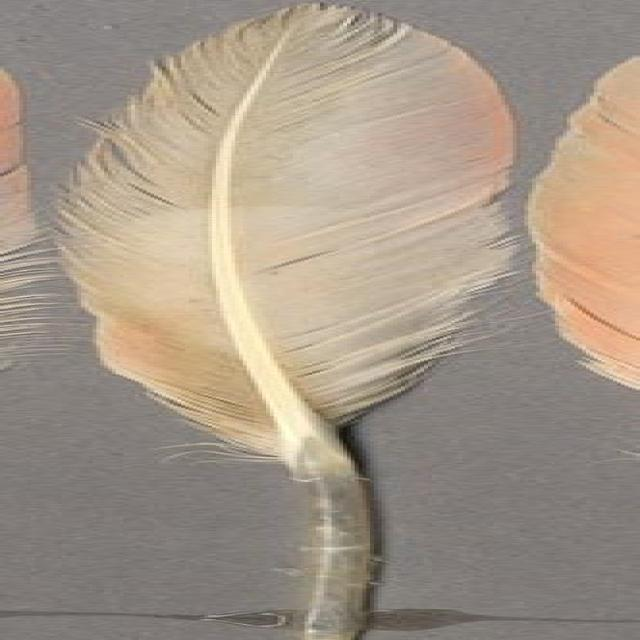feather: (53, 1, 524, 640)
